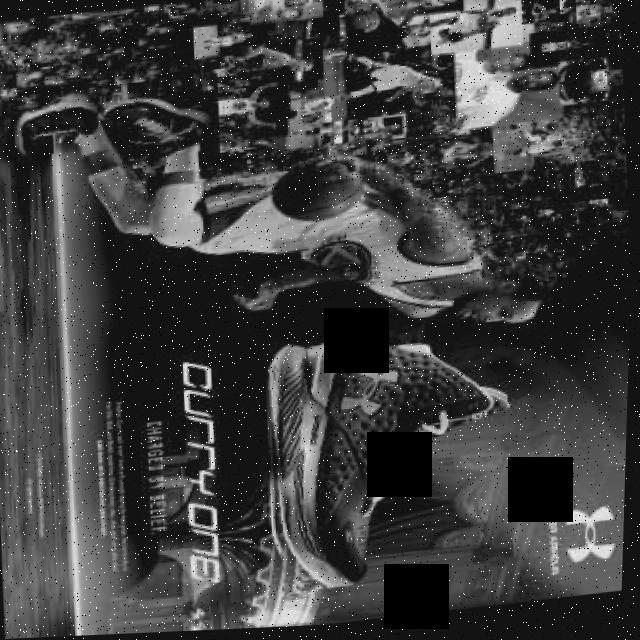shoe: (256, 324, 524, 597), (111, 93, 216, 164), (12, 87, 101, 158)
